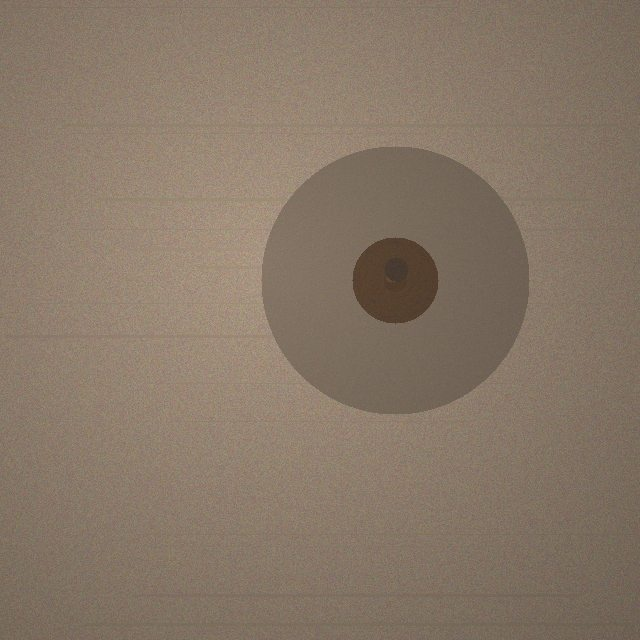cold_weld: (261, 146, 529, 414)
